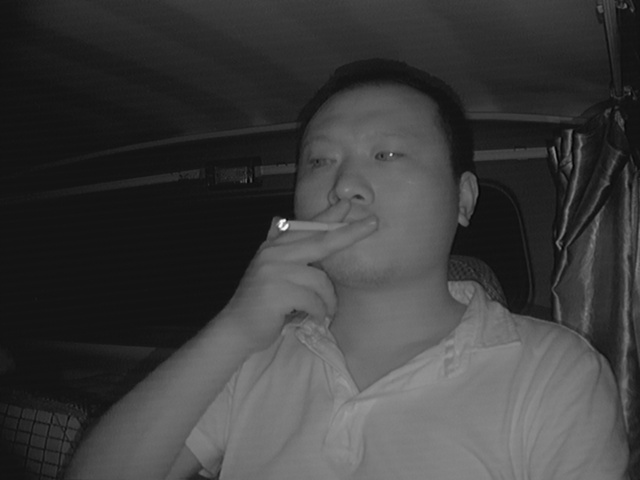hand: (270, 203, 378, 316)
